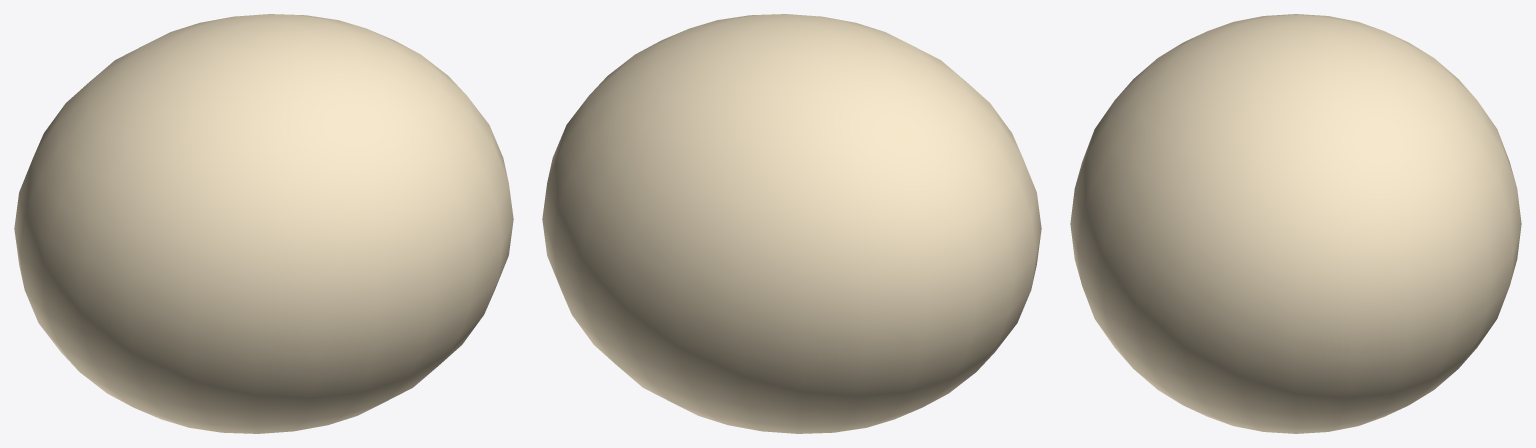
Rendered from sample-rosette.glb.
3 renders of one model, left to right at view 1: azimuth 30°, elevation 25°; view 2: azimuth 150°, elevation 25°; view 3: azimuth 270°, elevation 25°, orthographic. The views are drawn at different scales.
Size of the model in its own units: 1 by 0.8 by 0.9.
